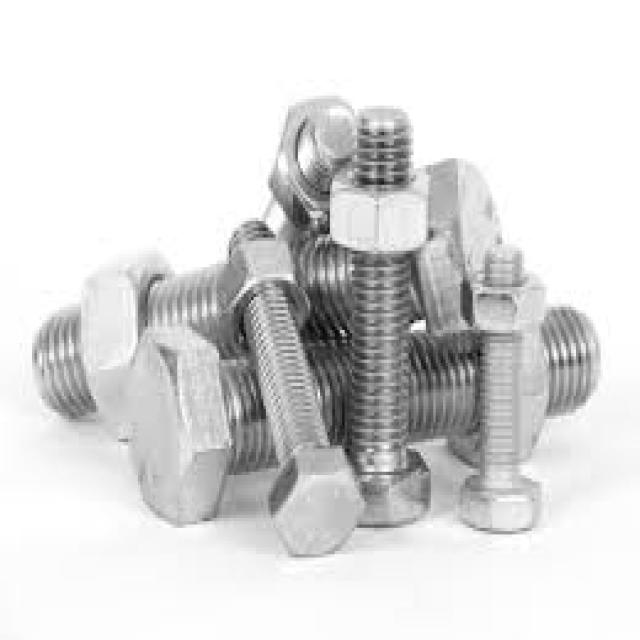metal: (32, 155, 502, 436), (123, 297, 596, 521), (214, 211, 364, 554), (340, 106, 428, 521), (455, 248, 539, 531), (86, 264, 165, 439), (266, 99, 364, 231), (202, 231, 308, 340), (327, 162, 426, 244), (458, 271, 539, 324)
